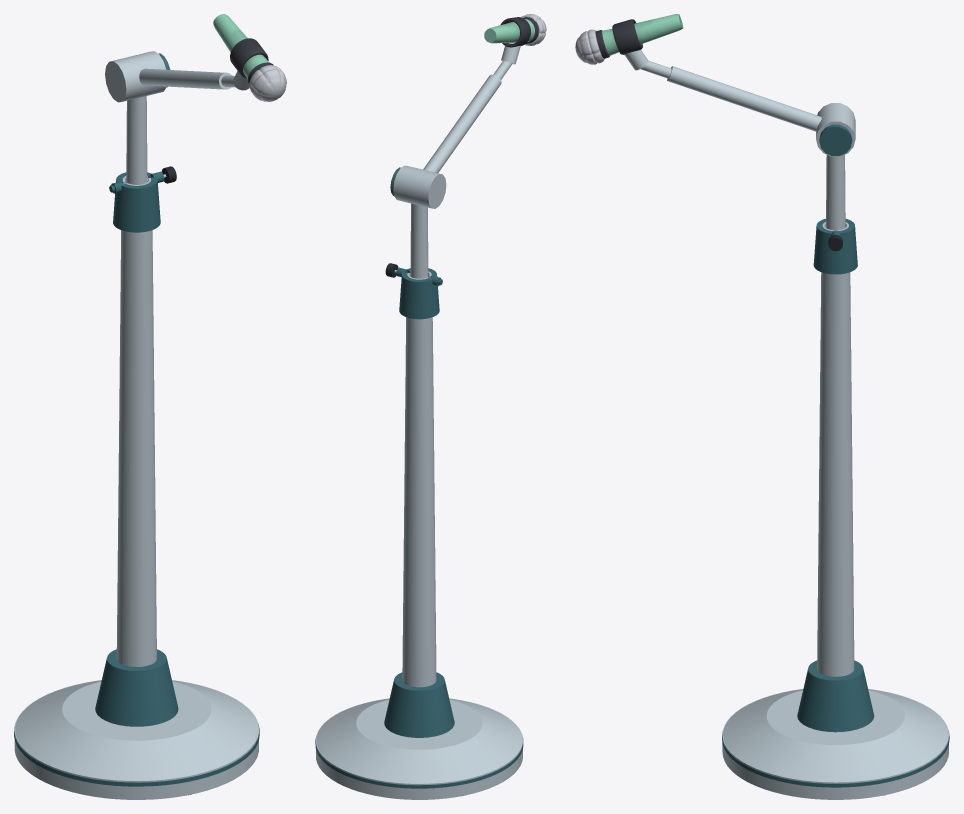
The picture shows the model from 3 angles, left to right: view 1: azimuth 30°, elevation 25°; view 2: azimuth 150°, elevation 25°; view 3: azimuth 270°, elevation 25°; orthographic projection. The views are drawn at different scales.
Visible parts, largest first — view 1: weighted-disc, telescoping-mast, mast-socket, short-arm-hinge, mast-inner-slider, height-lock, singing-boom, disc-inlay, singing-mic-pickup, singing-mic-handle, singing-mic-clip; view 2: weighted-disc, telescoping-mast, mast-socket, short-arm-hinge, singing-boom, mast-inner-slider, height-lock, disc-inlay, singing-mic-handle, singing-mic-clip; view 3: weighted-disc, telescoping-mast, mast-socket, singing-boom, mast-inner-slider, height-lock, singing-mic-handle, disc-inlay, short-arm-hinge, arm-thumbwheel, singing-mic-clip, singing-mic-pickup.
Boxes of the visible parts, x1,y1,x2,y2 form: weighted-disc: (14, 680, 258, 799); telescoping-mast: (116, 230, 156, 666); mast-socket: (95, 649, 178, 726); short-arm-hinge: (105, 51, 166, 102); mast-inner-slider: (126, 96, 147, 184); height-lock: (113, 187, 160, 232); singing-boom: (139, 68, 231, 89); disc-inlay: (14, 723, 259, 786); singing-mic-pickup: (249, 65, 286, 101); singing-mic-handle: (213, 14, 269, 79); singing-mic-clip: (230, 38, 268, 78); weighted-disc: (316, 698, 522, 799); telescoping-mast: (402, 317, 436, 687); mast-socket: (384, 672, 454, 737); short-arm-hinge: (393, 165, 446, 208); singing-boom: (423, 74, 501, 173); mast-inner-slider: (410, 203, 428, 278); height-lock: (399, 280, 439, 319); disc-inlay: (315, 736, 523, 788); singing-mic-handle: (484, 19, 534, 43); singing-mic-clip: (500, 17, 530, 47); weighted-disc: (722, 688, 948, 799); telescoping-mast: (817, 272, 854, 676); mast-socket: (797, 660, 874, 732); singing-boom: (667, 66, 821, 131); mast-inner-slider: (826, 155, 845, 231); height-lock: (813, 232, 857, 274); singing-mic-handle: (602, 14, 683, 55); disc-inlay: (722, 731, 949, 787); short-arm-hinge: (816, 103, 855, 156); arm-thumbwheel: (819, 124, 852, 155); singing-mic-clip: (612, 19, 642, 54); singing-mic-pickup: (575, 29, 604, 64).
Bounding box in the file's own units: 0.4016 × 1.45 × 0.6603.
Materials: 4 (1 with a texture image).
